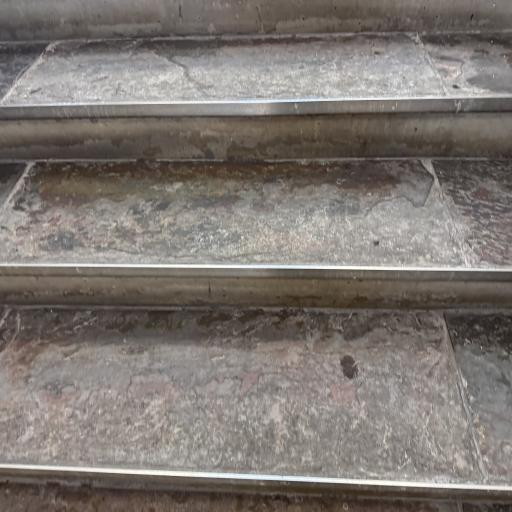Stairs: (0, 0, 512, 512), (0, 34, 512, 160)
